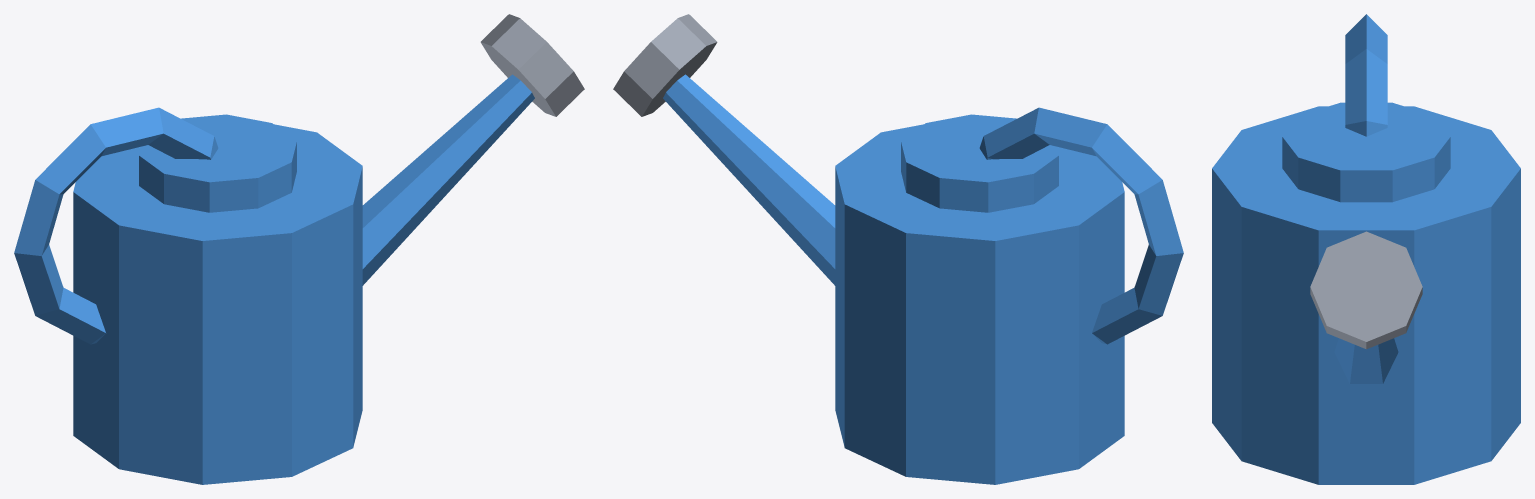
The model's file is tool_watering_can.glb.
3 renders of one model, left to right at view 1: azimuth 30°, elevation 25°; view 2: azimuth 150°, elevation 25°; view 3: azimuth 270°, elevation 25°, orthographic. The views are drawn at different scales.
Parts seen in each view (by area): view 1: tool_watering_can; view 2: tool_watering_can; view 3: tool_watering_can.
Boxes of the visible parts, x1,y1,x2,y2 form: tool_watering_can: [14, 14, 584, 484]; tool_watering_can: [613, 14, 1183, 484]; tool_watering_can: [1212, 14, 1520, 484].
Size of the model in its own units: 0.4802 by 0.2714 by 0.22.
